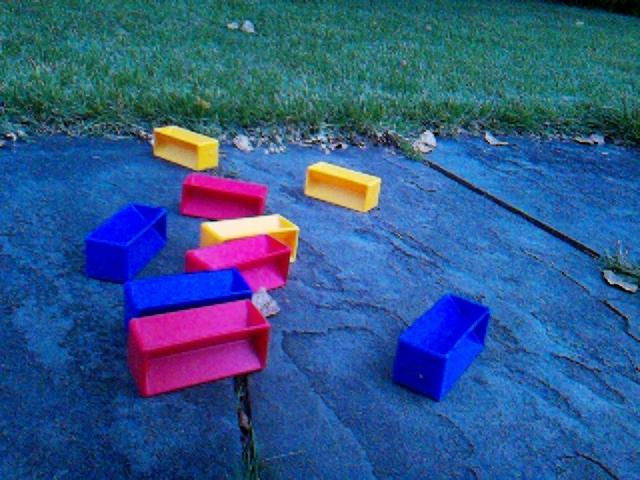blue: (391, 291, 492, 403), (123, 266, 254, 322), (84, 201, 169, 284)
red: (126, 298, 272, 398), (185, 234, 292, 293), (179, 171, 269, 220)
yellow: (199, 213, 301, 264), (303, 160, 383, 214), (152, 124, 220, 172)
